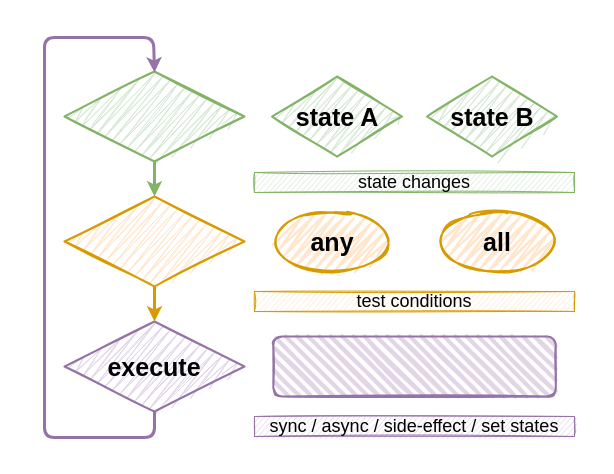
Image size: 614x474. Some labels were removed from this diagram. Each missing label, with the centre of its shape:
condition: (154,241)
Reactive Function: (414,366)
watch: (154,116)
